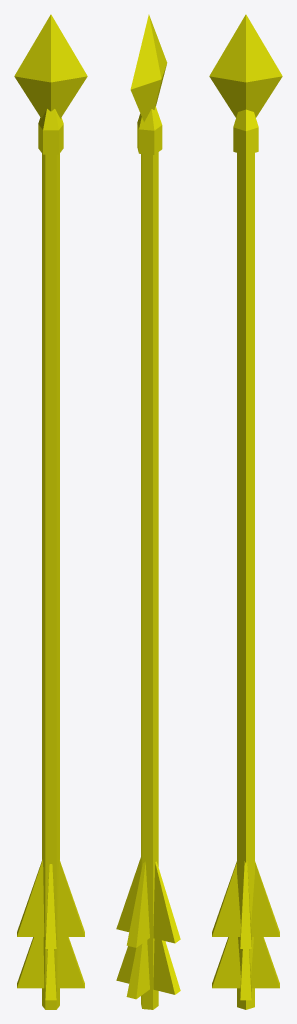
Rendered from _arrow_c_6.glb.
3 views of the same model, side by side, from view 1: azimuth 90°, elevation 25°; view 2: azimuth 150°, elevation 25°; view 3: azimuth 270°, elevation 25° (orthographic).
Visible parts, largest first — view 1: arrow_c_6; view 2: arrow_c_6; view 3: arrow_c_6.
Boxes of the visible parts, x1,y1,x2,y2 form: arrow_c_6: (14,14,87,1009); arrow_c_6: (116,14,180,1009); arrow_c_6: (209,14,282,1009).
Size of the model in its own units: 0.0379 by 0.6104 by 0.041.
1 material, 1 textured.
